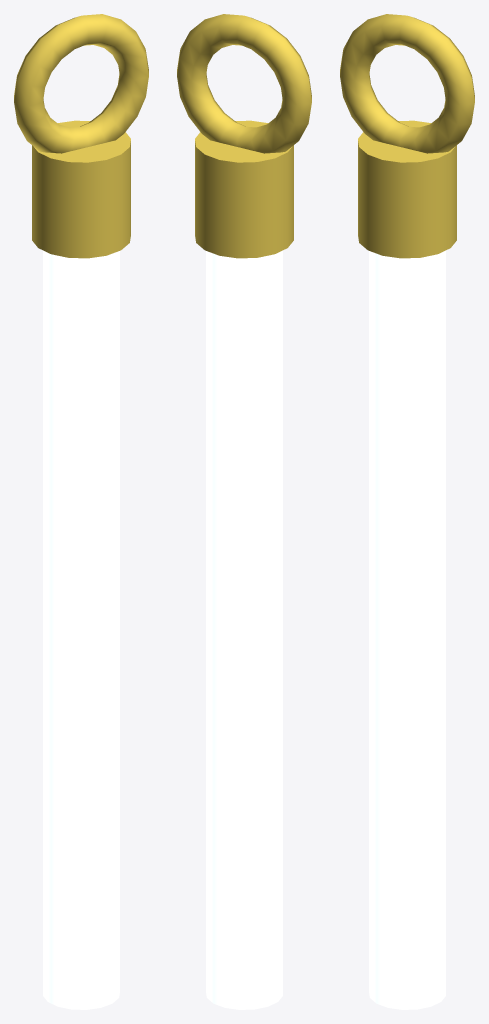
Rendered from paranormal-investigation-house-glow-stick-870212e3__26821.glb.
3 views of the same model, side by side, from view 1: azimuth 30°, elevation 25°; view 2: azimuth 150°, elevation 25°; view 3: azimuth 330°, elevation 25° (orthographic).
Parts seen in each view (by area): view 1: glow-stick; view 2: glow-stick; view 3: glow-stick.
Part boxes in pixels (x1,y1,x2,y2): glow-stick: (14,14,148,1009); glow-stick: (177,14,311,1009); glow-stick: (340,14,474,1009).
Size of the model in its own units: 0.028 by 0.194 by 0.018.
